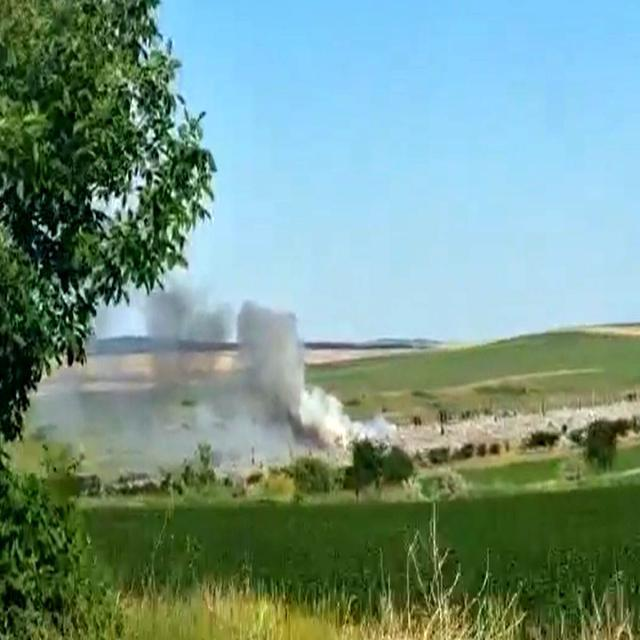Smoke: (62, 290, 408, 489)
